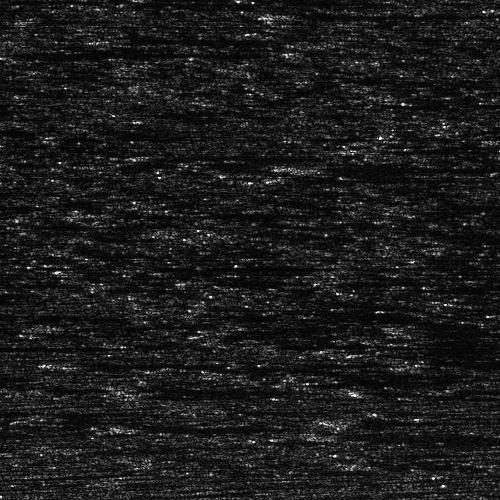object: (81, 202, 134, 223), (0, 42, 24, 63), (271, 12, 302, 17)
shadow: (0, 42, 238, 63), (107, 202, 170, 223), (287, 12, 500, 17), (113, 37, 247, 40)
